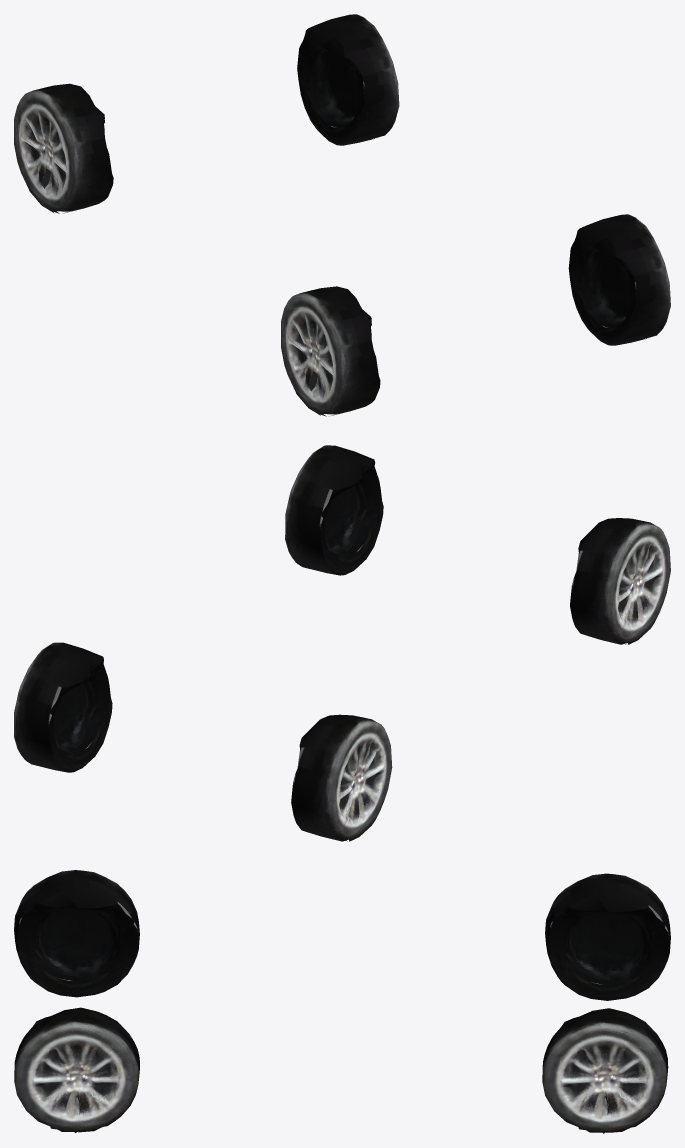
File: forte-wheels.glb
The picture shows the model from 3 angles, top to bottom: view 1: azimuth 30°, elevation 25°; view 2: azimuth 150°, elevation 25°; view 3: azimuth 270°, elevation 25°; orthographic projection. The views are drawn at different scales.
Visible parts, largest first — view 1: root; view 2: root; view 3: root.
Boxes of the visible parts, x1,y1,x2,y2 form: root: (14,14,670,416); root: (14,445,670,841); root: (14,870,670,1133).
Size of the model in its own units: 1.93 by 0.6401 by 3.41.
Materials: 1 (1 with a texture image).
